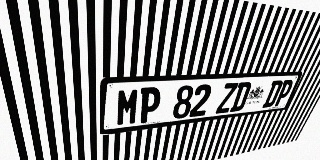2: (189, 84, 213, 117)
8: (172, 85, 196, 119)
D: (229, 82, 253, 112), (262, 80, 284, 108)
M: (116, 88, 140, 126)
P: (138, 87, 162, 124), (273, 80, 295, 106)
Z: (215, 83, 239, 114)
